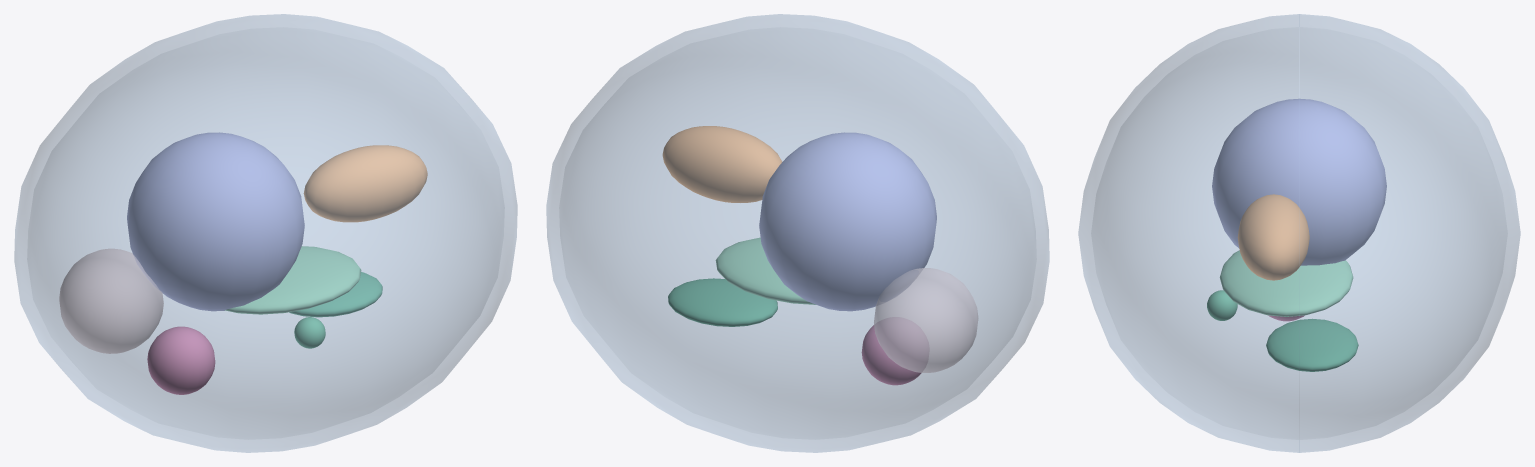
The model's file is cell.glb.
The picture shows the model from 3 angles, left to right: view 1: azimuth 30°, elevation 25°; view 2: azimuth 150°, elevation 25°; view 3: azimuth 270°, elevation 25°; orthographic projection. The views are drawn at different scales.
Visible parts, largest first — view 1: CellMembrane, Cytoplasm, Nucleus, Vacuole, Mitochondrion, RoughER, Lysosome, GolgiApparatus, Ribosome; view 2: CellMembrane, Cytoplasm, Nucleus, Vacuole, Mitochondrion, GolgiApparatus, RoughER, Lysosome; view 3: CellMembrane, Cytoplasm, Nucleus, RoughER, Mitochondrion, GolgiApparatus, Ribosome.
Part boxes in pixels (box(x1,y1,x2,y2)): CellMembrane: box(14, 14, 517, 452); Cytoplasm: box(27, 27, 504, 439); Nucleus: box(127, 132, 304, 311); Vacuole: box(59, 248, 163, 353); Mitochondrion: box(303, 145, 427, 222); RoughER: box(224, 246, 361, 314); Lysosome: box(147, 326, 215, 394); GolgiApparatus: box(289, 272, 382, 317); Ribosome: box(294, 317, 325, 348); CellMembrane: box(546, 14, 1049, 452); Cytoplasm: box(559, 27, 1036, 439); Nucleus: box(759, 132, 936, 311); Vacuole: box(874, 268, 978, 372); Mitochondrion: box(662, 126, 782, 202); GolgiApparatus: box(668, 278, 777, 326); RoughER: box(715, 237, 815, 304); Lysosome: box(861, 325, 921, 385); CellMembrane: box(1078, 14, 1520, 452); Cytoplasm: box(1091, 27, 1507, 439); Nucleus: box(1212, 98, 1386, 265); RoughER: box(1219, 250, 1353, 316); Mitochondrion: box(1237, 194, 1309, 280); GolgiApparatus: box(1266, 318, 1358, 371); Ribosome: box(1207, 290, 1237, 320).
Size of the model in its own units: 2 by 1.64 by 1.72.
